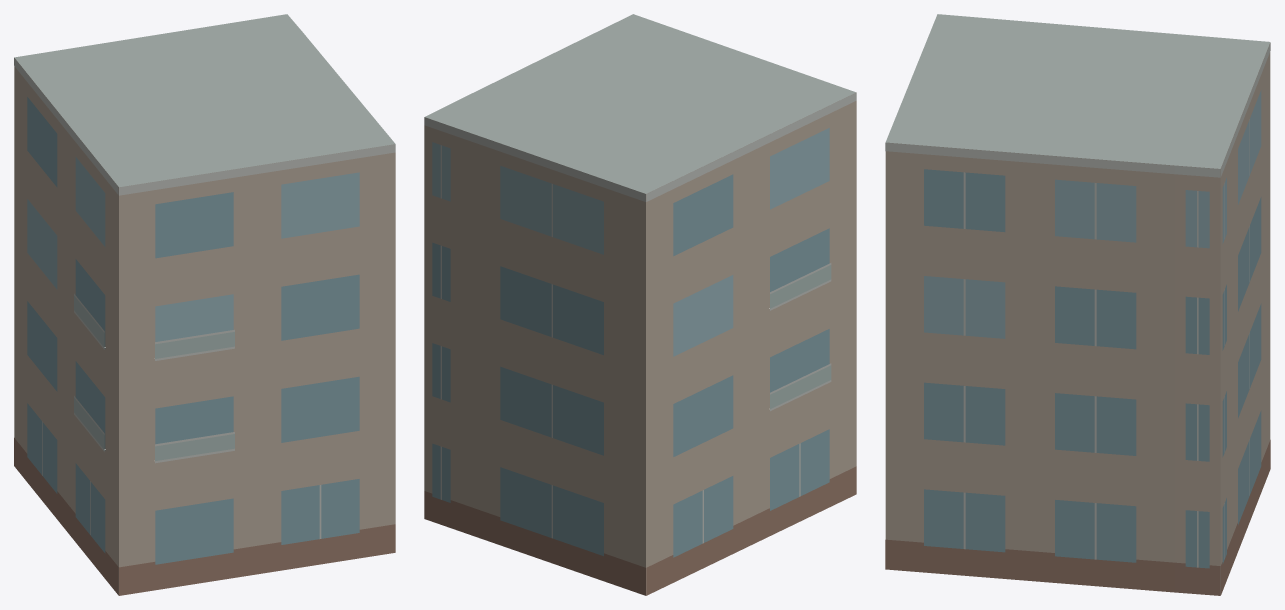
Rendered from survey-upis-32977533.glb.
3 views of the same model, side by side, from view 1: azimuth 30°, elevation 25°; view 2: azimuth 150°, elevation 25°; view 3: azimuth 270°, elevation 25° (orthographic). The views are drawn at different scales.
Visible parts, largest first — view 1: survey-upis-32977533.tmp; view 2: survey-upis-32977533.tmp; view 3: survey-upis-32977533.tmp.
Boxes of the visible parts, bbox=[...] form: survey-upis-32977533.tmp: bbox=[14, 14, 395, 595]; survey-upis-32977533.tmp: bbox=[424, 14, 856, 595]; survey-upis-32977533.tmp: bbox=[885, 14, 1270, 595].
Bounding box in the file's own units: 9.29 × 11.92 × 9.75.
